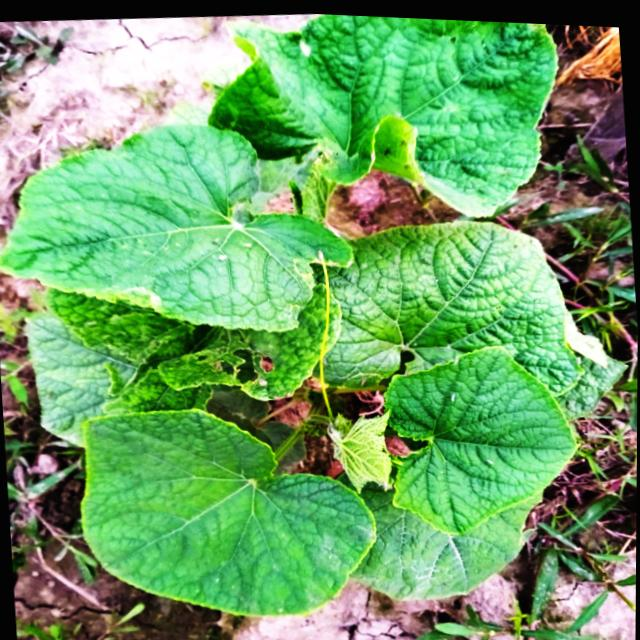Fresh-Leaf: (76, 407, 378, 618), (385, 346, 579, 535)
